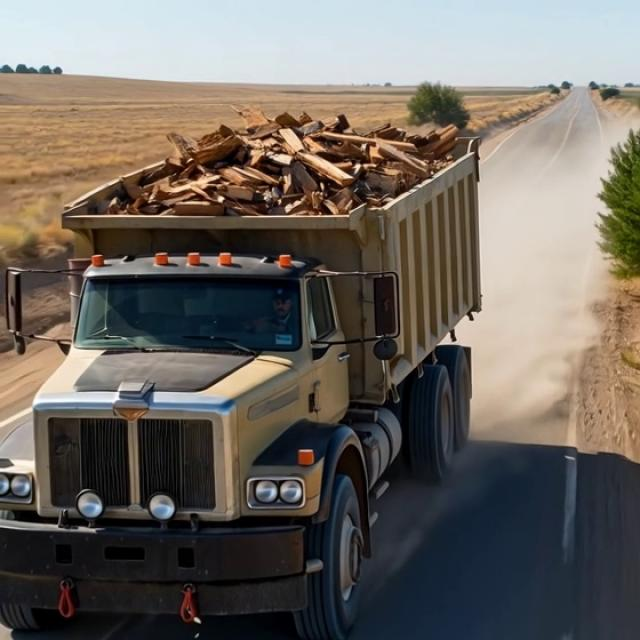trailer: (54, 104, 487, 237)
truck: (0, 78, 498, 620)
